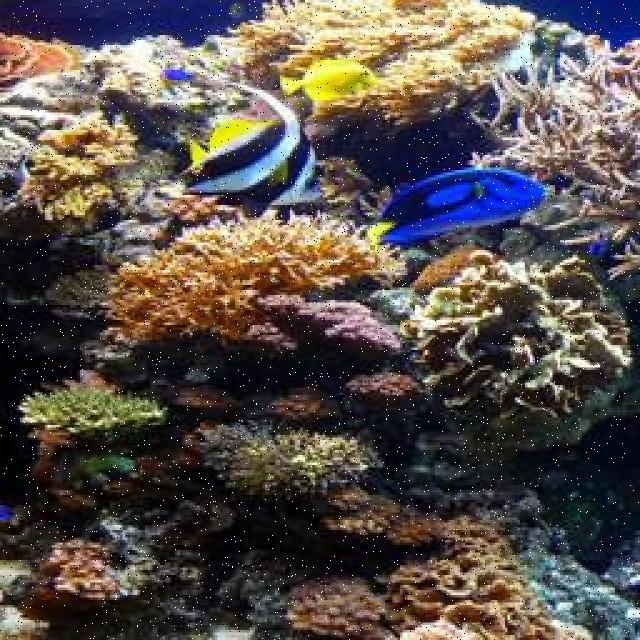fish: (182, 86, 327, 218), (364, 168, 552, 247), (280, 57, 380, 101), (590, 235, 608, 257), (163, 70, 192, 80)
reefs: (101, 210, 407, 344), (467, 41, 638, 280), (215, 0, 540, 122), (401, 249, 633, 419), (282, 514, 595, 638), (200, 417, 385, 501), (0, 117, 138, 224), (17, 389, 167, 442), (260, 296, 404, 348), (316, 490, 452, 543), (1, 29, 80, 96), (43, 540, 121, 599), (269, 387, 340, 419), (343, 372, 426, 396), (176, 386, 244, 406)
